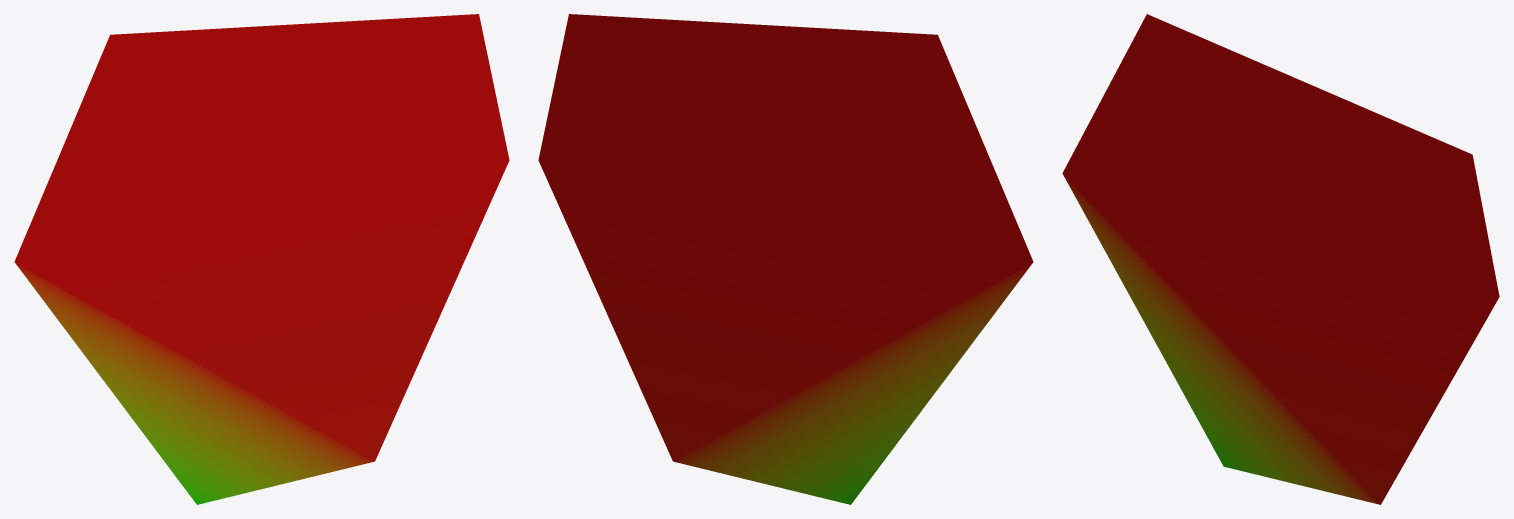
The model's file is Common Hemp Nettle_LOD7_Var4_xh1kdfbqx.fbx.
3 views of the same model, side by side, from view 1: azimuth 30°, elevation 25°; view 2: azimuth 150°, elevation 25°; view 3: azimuth 330°, elevation 25° (orthographic). The views are drawn at different scales.
Visible parts, largest first — view 1: _dg2n_Var4_LOD7; view 2: _dg2n_Var4_LOD7; view 3: _dg2n_Var4_LOD7.
Part boxes in pixels (bbox=[...]): _dg2n_Var4_LOD7: bbox=[14, 14, 509, 504]; _dg2n_Var4_LOD7: bbox=[538, 14, 1033, 504]; _dg2n_Var4_LOD7: bbox=[1062, 14, 1499, 504].
Size of the model in its own units: 67.87 by 64.37 by 2.81e-06.
